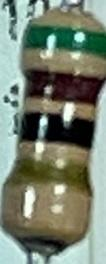Black: (18, 110, 94, 151)
Brown: (25, 69, 106, 106)
Green: (22, 26, 105, 60)
Side-Gold: (6, 162, 94, 195)
